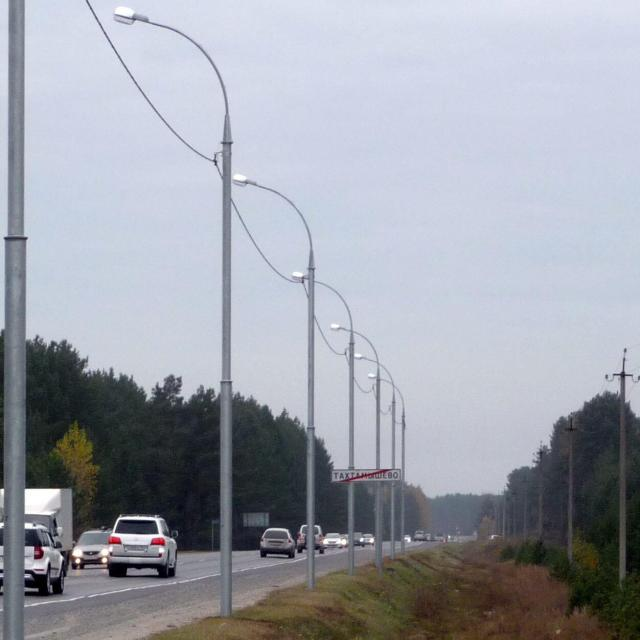pole: (0, 171, 41, 640), (217, 278, 246, 616)
